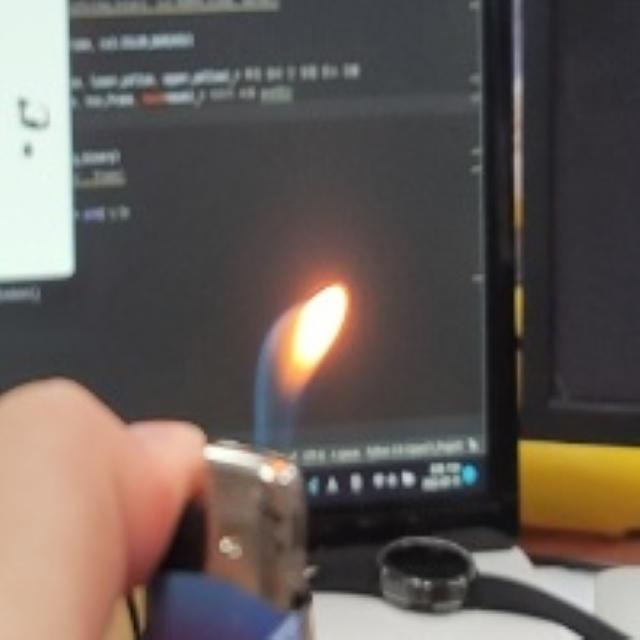Fire: (254, 273, 364, 430)
